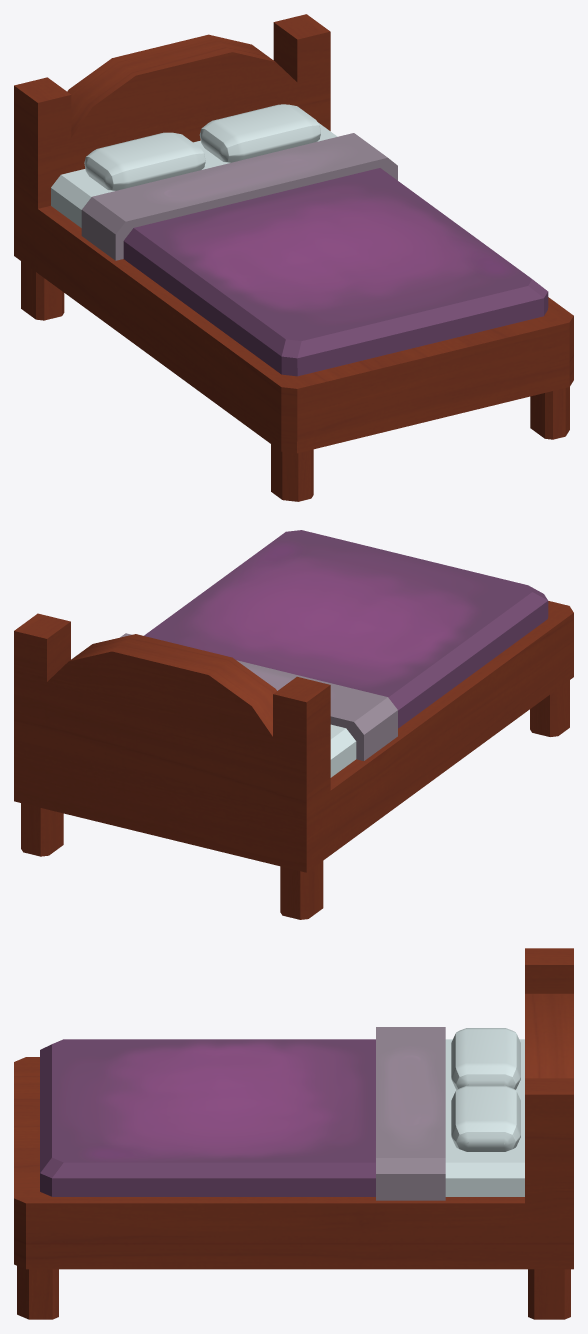
The model's file is bed.fbx.
3 views of the same model, one above another, from view 1: azimuth 30°, elevation 25°; view 2: azimuth 150°, elevation 25°; view 3: azimuth 270°, elevation 25° (orthographic). The views are drawn at different scales.
Parts seen in each view (by area): view 1: pCube4; view 2: pCube4; view 3: pCube4.
Part boxes in pixels (x1,y1,x2,y2): pCube4: (14, 14, 573, 501); pCube4: (14, 530, 573, 919); pCube4: (14, 948, 573, 1319).
Size of the model in its own units: 11.25 by 8.23 by 18.18.
Materials: 1 (1 with a texture image).
